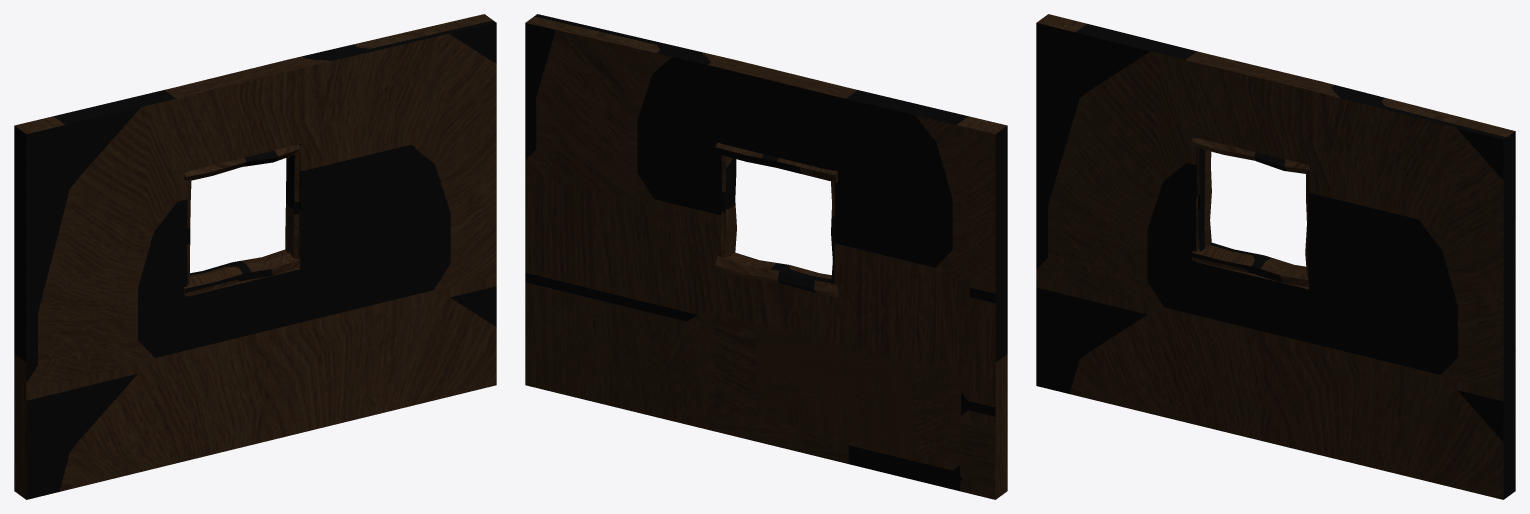
3 views of the same model, side by side, from view 1: azimuth 30°, elevation 25°; view 2: azimuth 150°, elevation 25°; view 3: azimuth 330°, elevation 25° (orthographic).
Visible parts, largest first — view 1: Cylinder.005_Baked; view 2: Cylinder.005_Baked; view 3: Cylinder.005_Baked.
Boxes of the visible parts, x1,y1,x2,y2 form: Cylinder.005_Baked: (14,14,496,499); Cylinder.005_Baked: (525,14,1007,499); Cylinder.005_Baked: (1036,14,1515,499).
Bounding box in the file's own units: 369 × 274 × 22.75.
